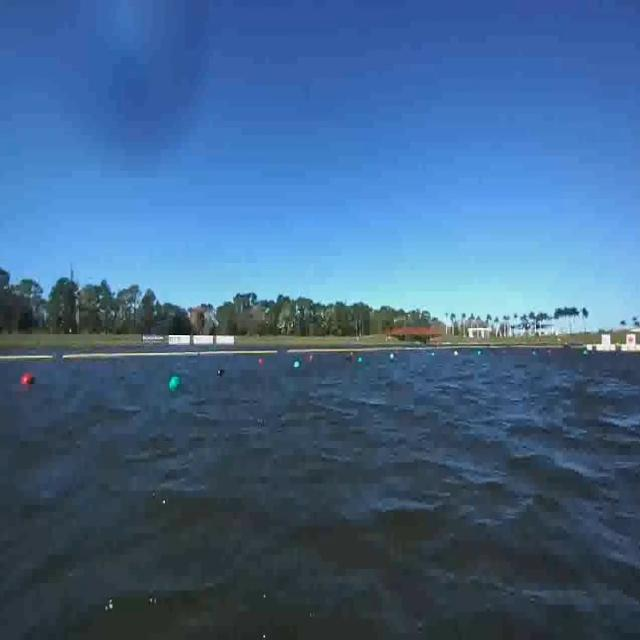green-buoy: (170, 377, 181, 392)
red-buoy: (23, 375, 34, 387)
